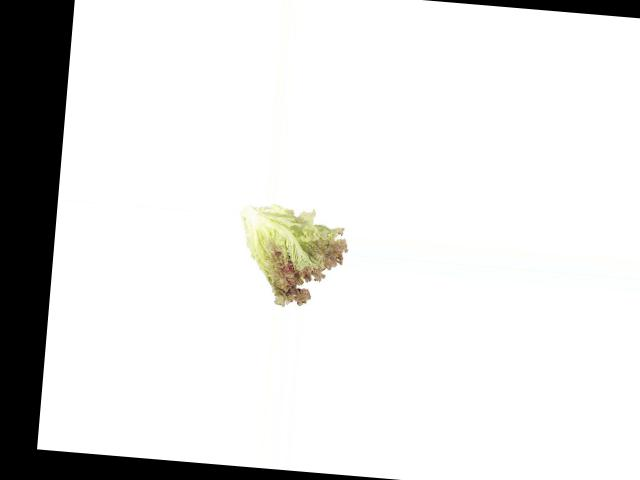lettuce: (234, 203, 351, 310)
